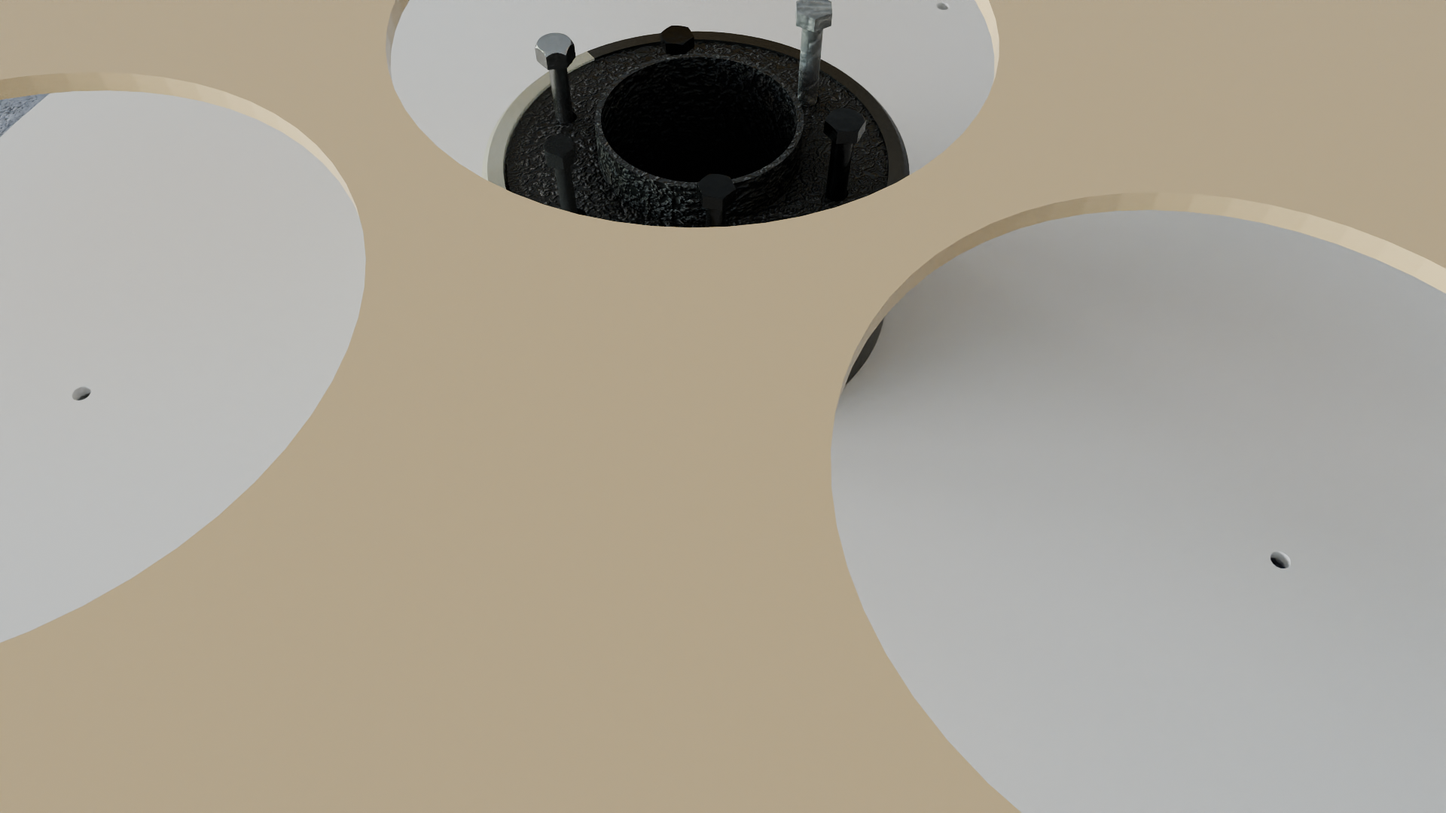bolt: (697, 174, 736, 200), (825, 108, 866, 132), (535, 32, 574, 57), (543, 136, 575, 159), (796, 0, 832, 20), (660, 26, 694, 45)
